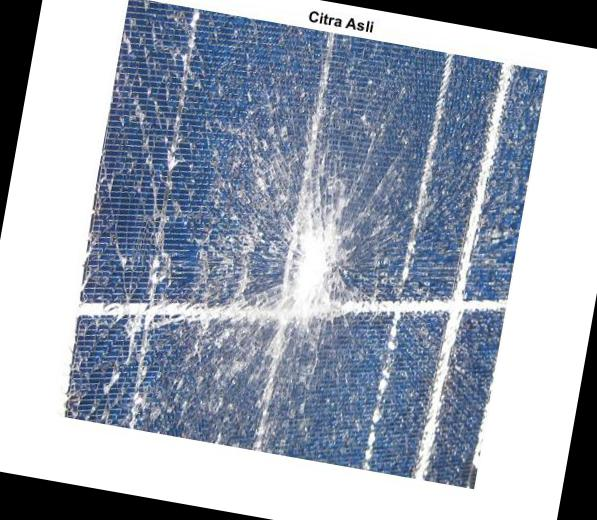Crack: (93, 10, 500, 434)
